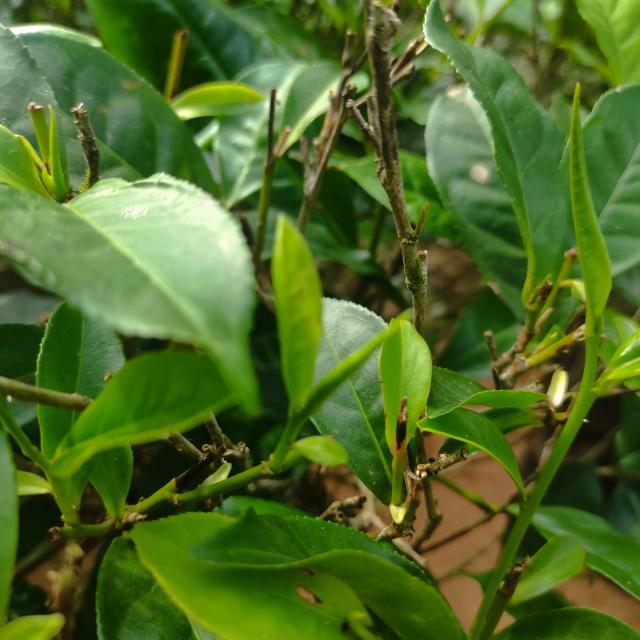unopened_leaf: (265, 306, 419, 459), (552, 71, 623, 363), (34, 94, 82, 218)
